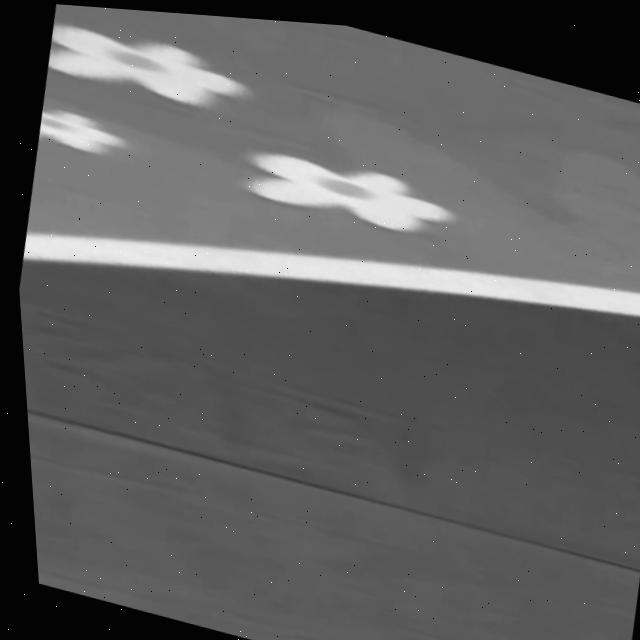right: (23, 232, 640, 318)
